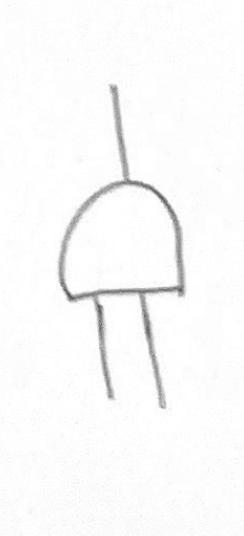AND: (34, 157, 210, 321)
